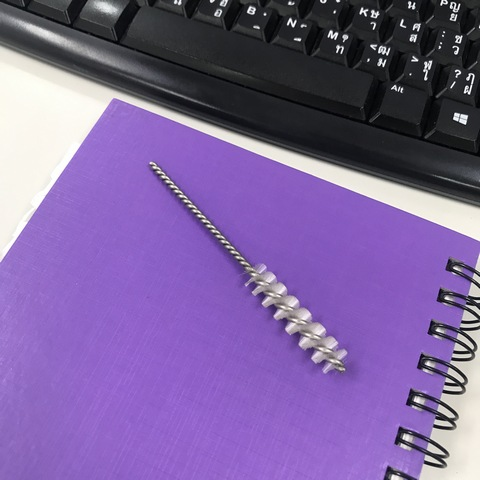Twist Brush-B: (146, 157, 354, 379)
